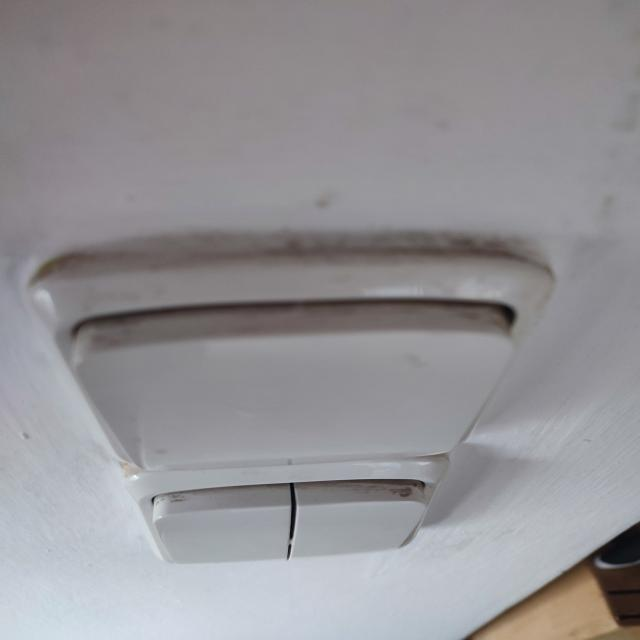house switch: (43, 272, 534, 466)
house switch double: (133, 467, 442, 564)
